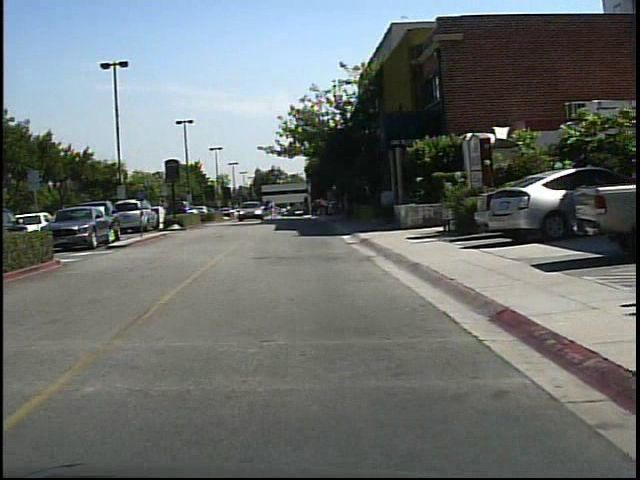person: (155, 194, 171, 229), (267, 195, 279, 222)
